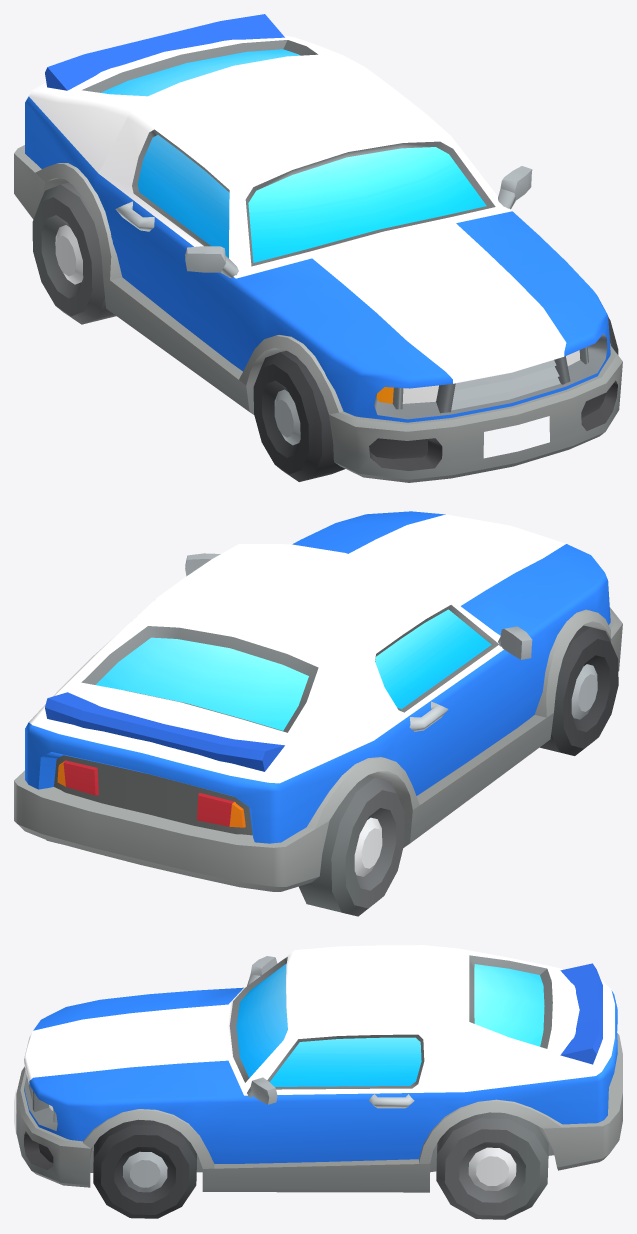
File: city2-car-35.glb
3 views of the same model, one above another, from view 1: azimuth 30°, elevation 25°; view 2: azimuth 150°, elevation 25°; view 3: azimuth 270°, elevation 25° (orthographic). The views are drawn at different scales.
Parts seen in each view (by area): view 1: Car_1.011, Wheel_062, Wheel_061; view 2: Car_1.011, Wheel_061, Wheel_062; view 3: Car_1.011, Wheel_064, Wheel_063.
Part boxes in pixels (box(x1,y1,x2,y2)): Car_1.011: box(14, 14, 622, 482); Wheel_062: box(253, 350, 345, 481); Wheel_061: box(32, 182, 116, 324); Car_1.011: box(14, 511, 622, 891); Wheel_061: box(299, 775, 405, 916); Wheel_062: box(540, 625, 618, 755); Car_1.011: box(14, 945, 622, 1192); Wheel_064: box(436, 1112, 548, 1219); Wheel_063: box(93, 1119, 196, 1218).
Size of the model in its own units: 2.49 by 1.61 by 4.74.
2 materials, 2 textured.
